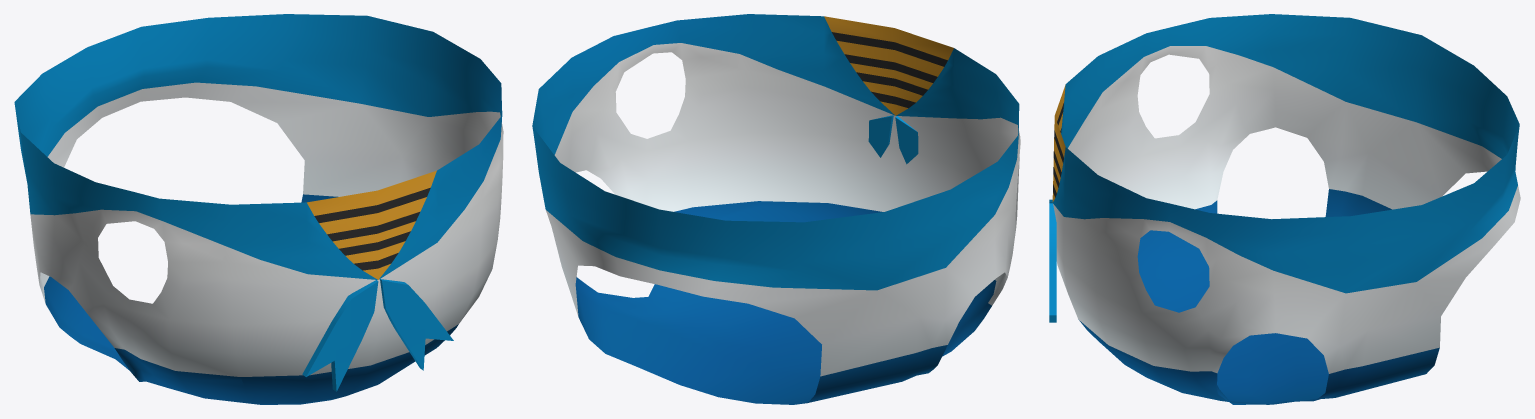
The model's file is Cloth_Sailor.fbx.
3 renders of one model, left to right at view 1: azimuth 30°, elevation 25°; view 2: azimuth 150°, elevation 25°; view 3: azimuth 270°, elevation 25°, orthographic.
Visible parts, largest first — view 1: Cloth_Sailor; view 2: Cloth_Sailor; view 3: Cloth_Sailor.
Part boxes in pixels (x1,y1,x2,y2): Cloth_Sailor: (14,14,503,404); Cloth_Sailor: (532,14,1020,404); Cloth_Sailor: (1049,14,1520,404).
Bounding box in the file's own units: 135 × 76.21 × 131.
